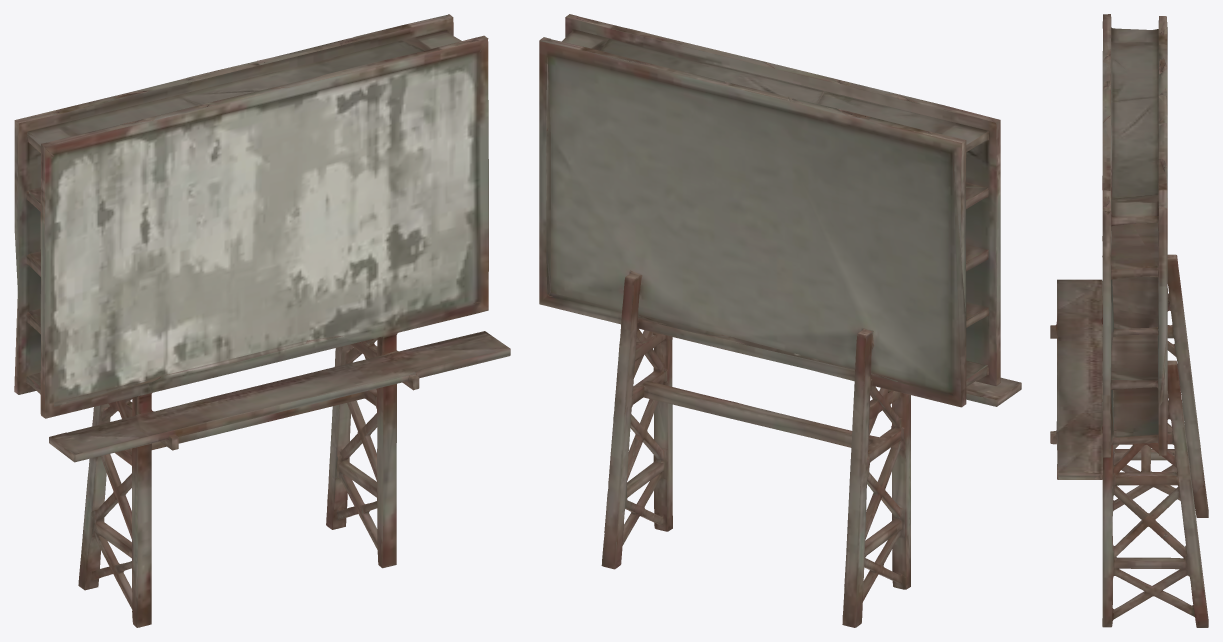
The model's file is prop-billboard.glb.
The picture shows the model from 3 angles, left to right: view 1: azimuth 30°, elevation 25°; view 2: azimuth 150°, elevation 25°; view 3: azimuth 270°, elevation 25°; orthographic projection. The views are drawn at different scales.
Parts seen in each view (by area): view 1: Mesh_0; view 2: Mesh_0; view 3: Mesh_0.
Boxes of the visible parts, left/top/right/bottom form: Mesh_0: left=14, top=14, right=510, bottom=627; Mesh_0: left=539, top=14, right=1021, bottom=627; Mesh_0: left=1050, top=14, right=1208, bottom=627.
Size of the model in its own units: 1.76 by 1.91 by 0.6.
Materials: 1 (1 with a texture image).
